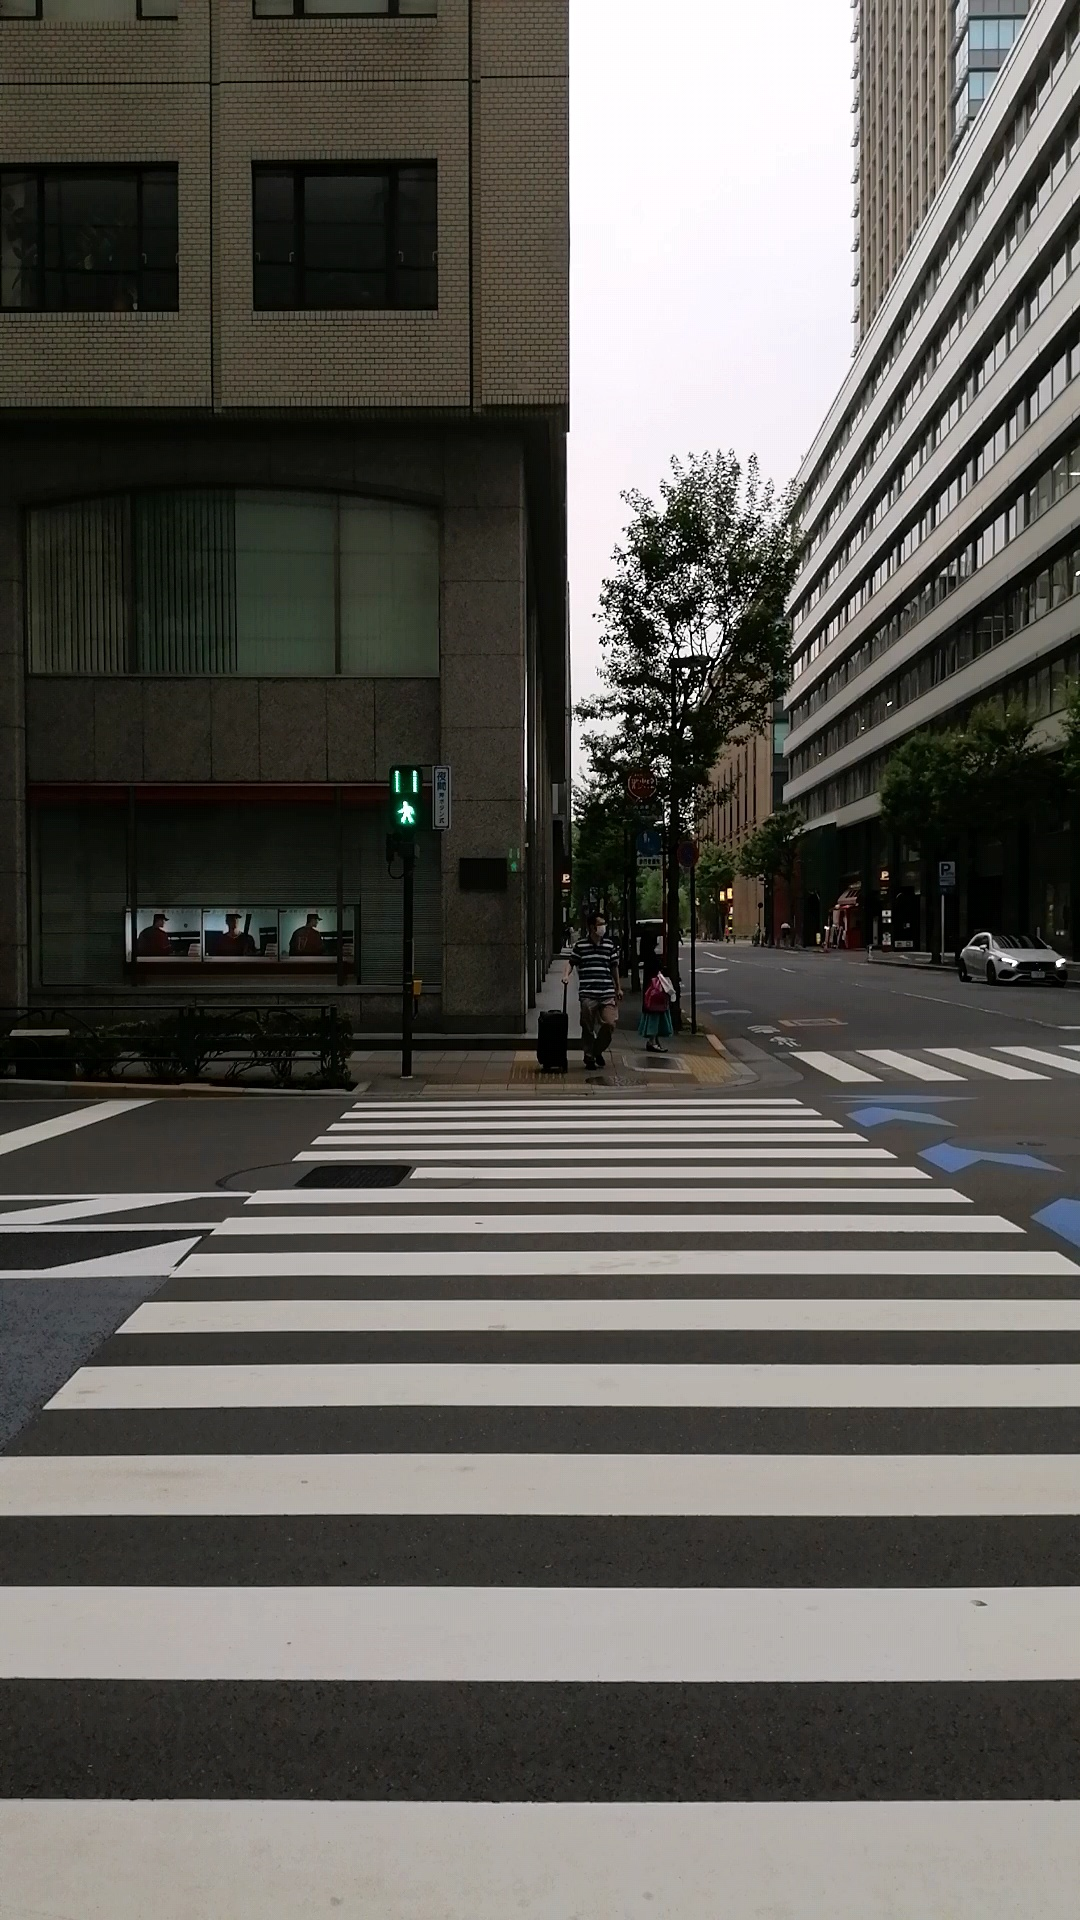green: (388, 764, 422, 832)
